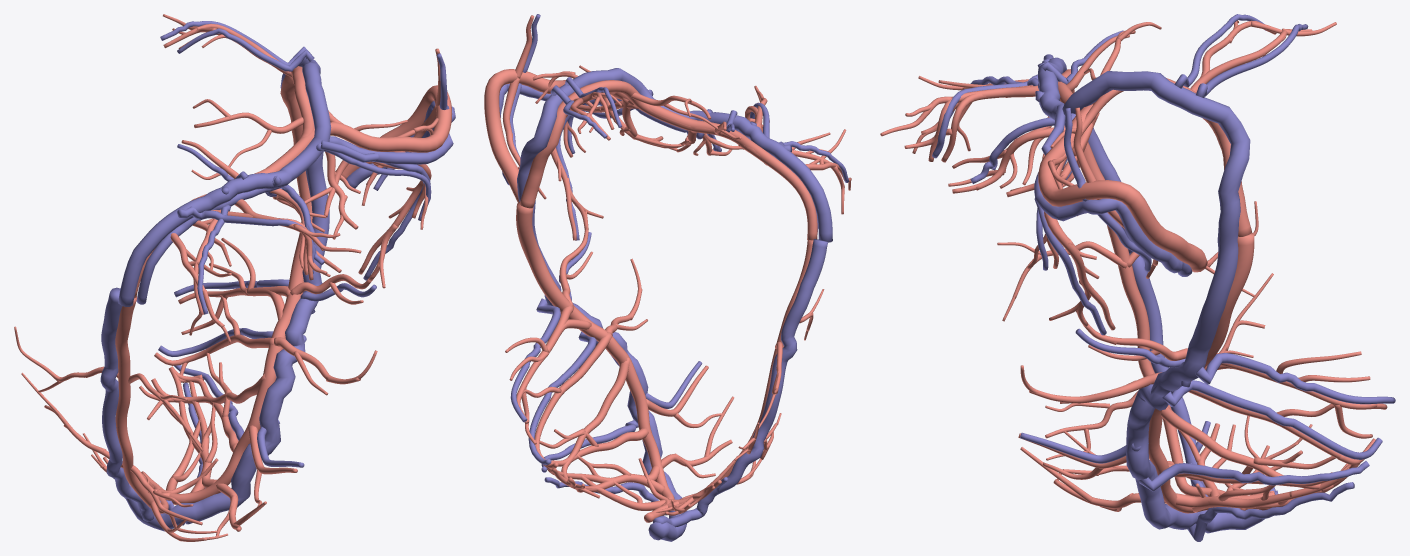
File: vessels_63.glb
3 views of the same model, side by side, from view 1: azimuth 30°, elevation 25°; view 2: azimuth 150°, elevation 25°; view 3: azimuth 270°, elevation 25° (orthographic). The views are drawn at different scales.
Parts seen in each view (by area): view 1: Renderer Node; view 2: Renderer Node; view 3: Renderer Node.
Boxes of the visible parts, x1,y1,x2,y2 form: Renderer Node: [14, 14, 455, 541]; Renderer Node: [484, 14, 851, 541]; Renderer Node: [880, 14, 1395, 541].
Bounding box in the file's own units: 93.32 × 114 × 95.58.
